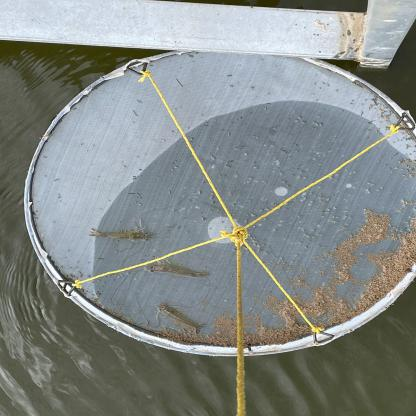shrimp: (156, 303, 207, 333), (143, 264, 209, 278), (88, 228, 154, 241)
